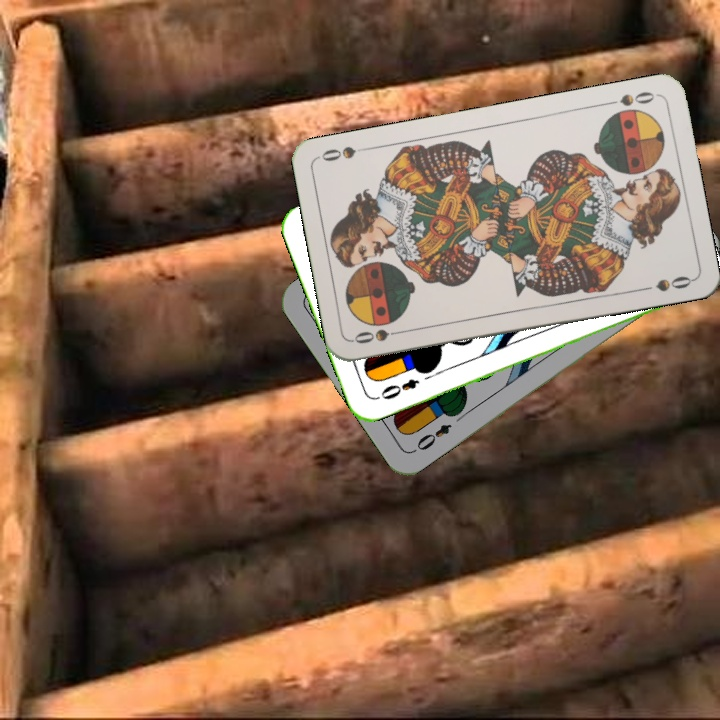EO: (409, 419, 455, 456), (372, 374, 422, 403)
SO: (350, 324, 409, 347), (601, 87, 660, 109)
